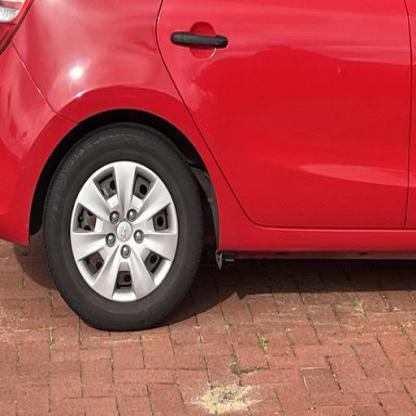Tire: (42, 123, 206, 332)
